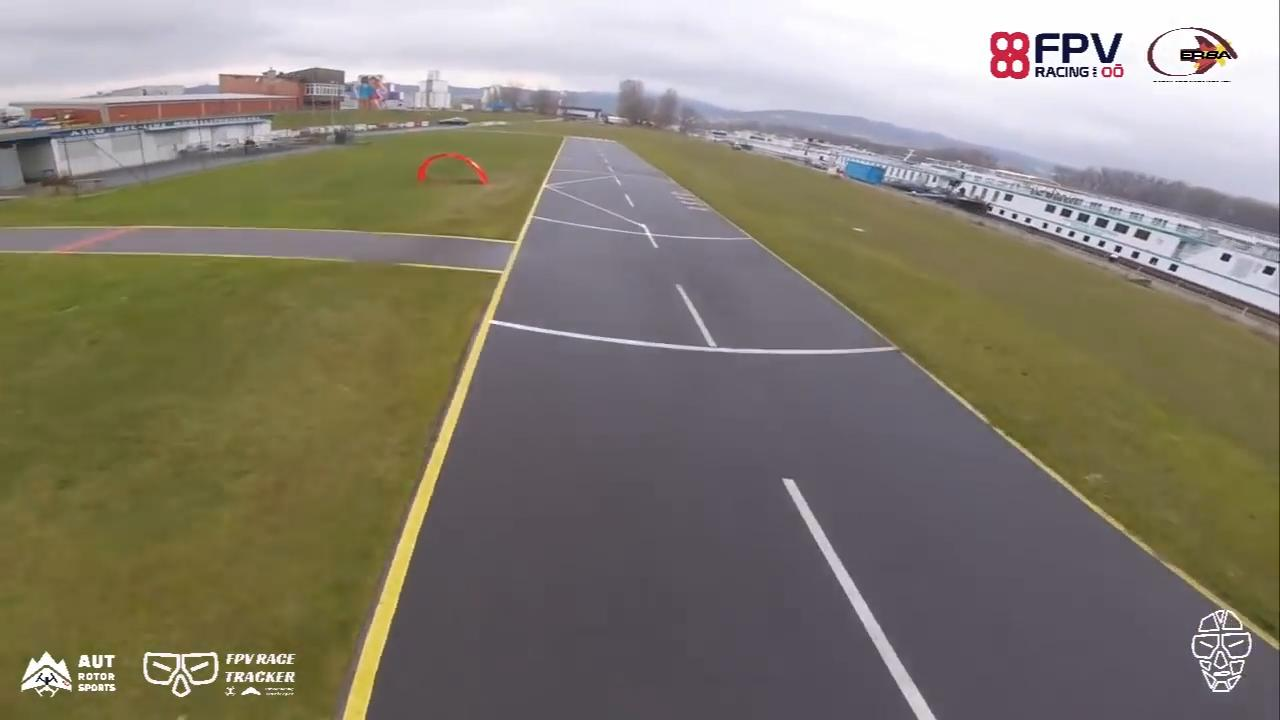gate: (420, 151, 488, 188)
